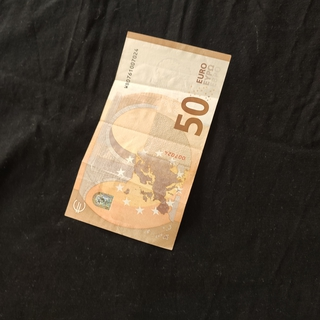50EUROBack: (61, 29, 233, 252)
